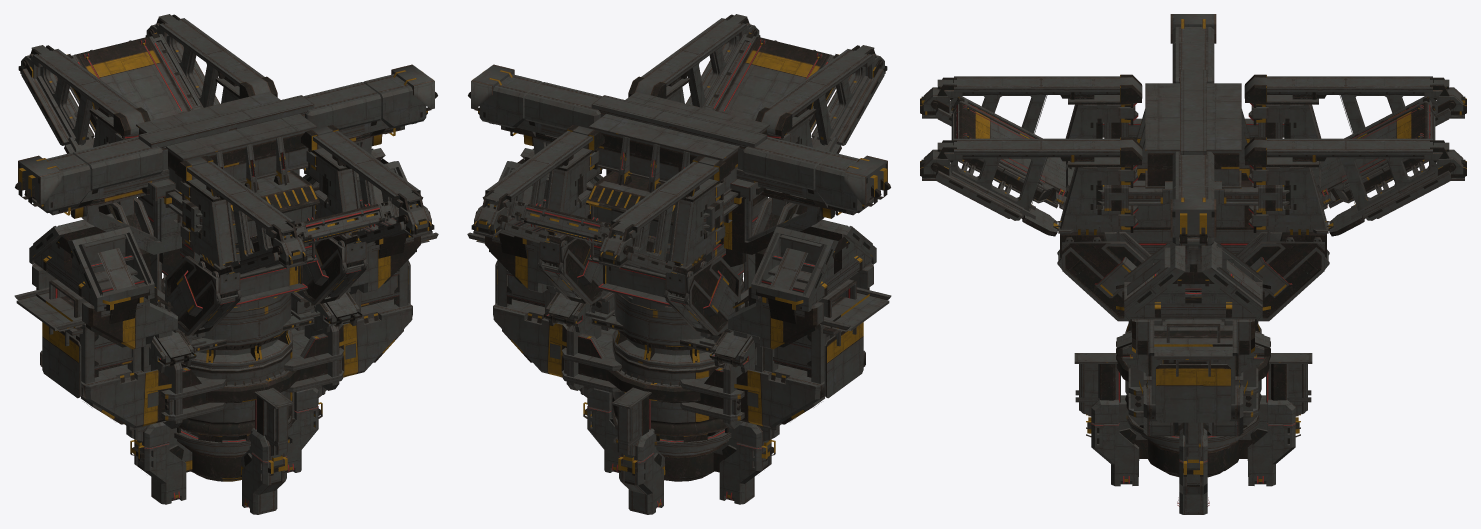
File: Drill_Top_L2.fbx
3 views of the same model, side by side, from view 1: azimuth 30°, elevation 25°; view 2: azimuth 150°, elevation 25°; view 3: azimuth 270°, elevation 25° (orthographic).
Parts seen in each view (by area): view 1: El5, El4, El1, El6, El9, El2, El11, El10, El7, El8, El3; view 2: El5, El4, El1, El6, El9, El2, El11, El10, El7, El8, El3; view 3: El5, El1, El10, El6, El2, El7, El8, El4, El9, El11.
Boxes of the visible parts, x1,y1,x2,y2 form: El5: [18, 14, 434, 275]; El4: [15, 64, 437, 266]; El1: [93, 87, 367, 335]; El6: [136, 92, 319, 306]; El9: [40, 292, 412, 428]; El2: [14, 214, 438, 398]; El11: [161, 274, 300, 481]; El10: [122, 386, 326, 514]; El7: [56, 32, 396, 253]; El8: [29, 148, 410, 311]; El3: [157, 289, 327, 352]; El5: [471, 14, 887, 275]; El4: [468, 64, 890, 266]; El1: [538, 87, 812, 335]; El6: [586, 92, 769, 306]; El9: [493, 292, 865, 428]; El2: [467, 214, 891, 398]; El11: [606, 273, 744, 481]; El10: [579, 386, 783, 514]; El7: [509, 32, 849, 253]; El8: [495, 148, 876, 311]; El3: [578, 289, 748, 352]; El5: [920, 74, 1466, 236]; El1: [1054, 103, 1332, 321]; El10: [1074, 353, 1312, 514]; El6: [1119, 70, 1267, 290]; El2: [1128, 297, 1258, 422]; El7: [951, 96, 1435, 209]; El8: [1116, 137, 1270, 321]; El4: [1163, 14, 1223, 272]; El9: [1116, 322, 1270, 436]; El11: [1116, 291, 1270, 477].
Size of the model in its own units: 3175 by 2677 by 3590.
